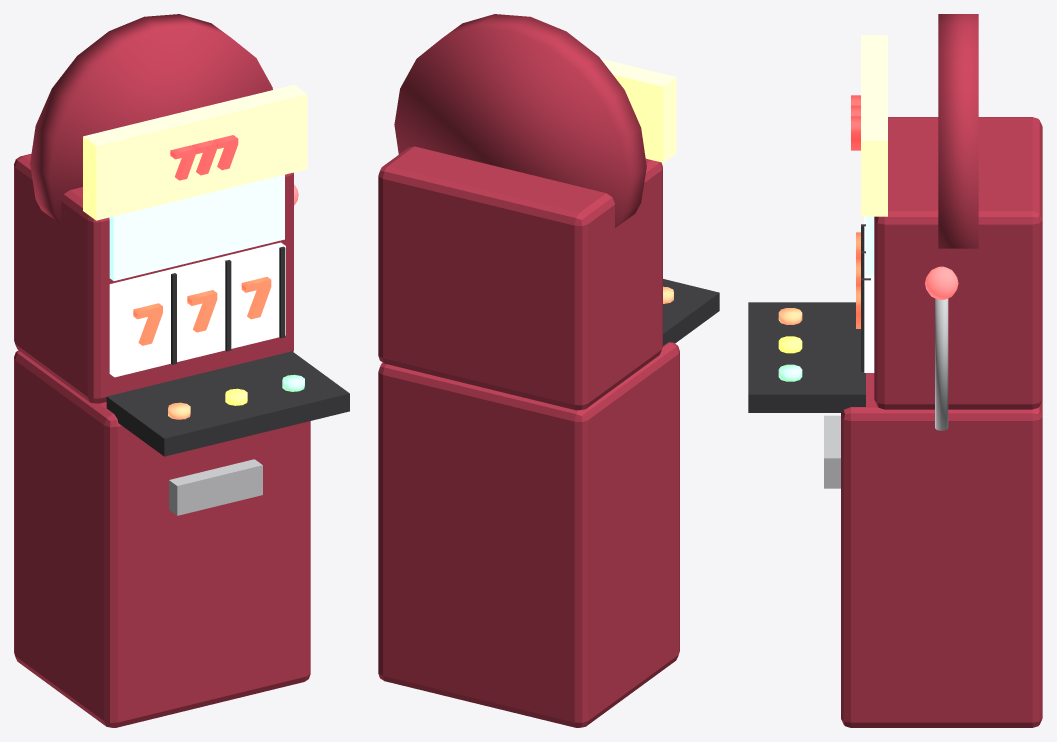
Rendered from slot_machine.glb.
The picture shows the model from 3 angles, left to right: view 1: azimuth 30°, elevation 25°; view 2: azimuth 150°, elevation 25°; view 3: azimuth 270°, elevation 25°; orthographic projection.
Visible parts, largest first — view 1: slot_machine; view 2: slot_machine; view 3: slot_machine.
Boxes of the visible parts, x1=… form: slot_machine: x1=14, y1=14, x2=349, y2=727; slot_machine: x1=378, y1=14, x2=719, y2=727; slot_machine: x1=748, y1=14, x2=1042, y2=727.
Size of the model in its own units: 0.87 by 2.15 by 0.875.
